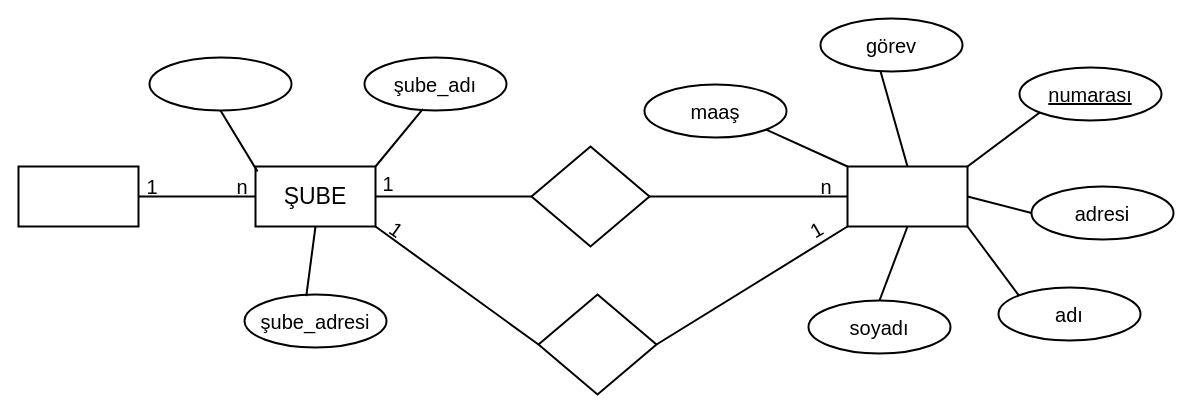
Some shapes in this 1191 by 412 pixel diagram are drawn without their labels. Here are the shapes that lost their labels. From the top down, the centre of each, then its label:
the point at 220,83: şube_id
the point at 78,196: ŞİRKET
the point at 590,196: ÇALIŞIR
the point at 907,196: ÇALIŞAN
the point at 597,344: YÖNETİCİ
